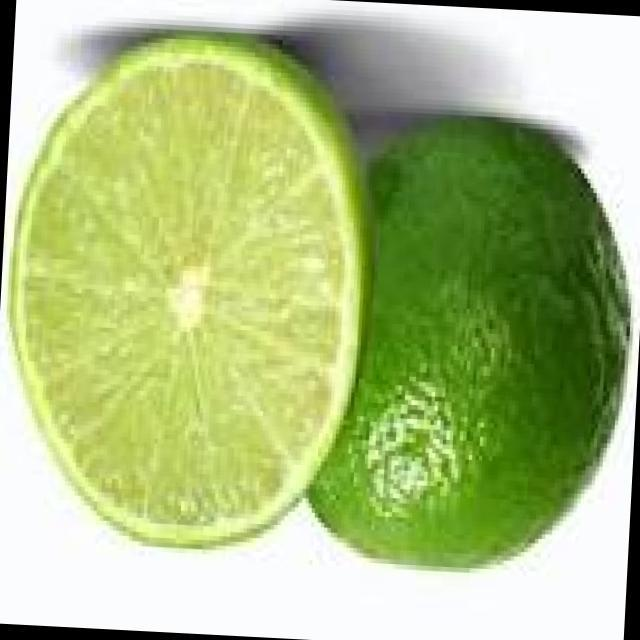Lemon: (0, 17, 380, 576)
